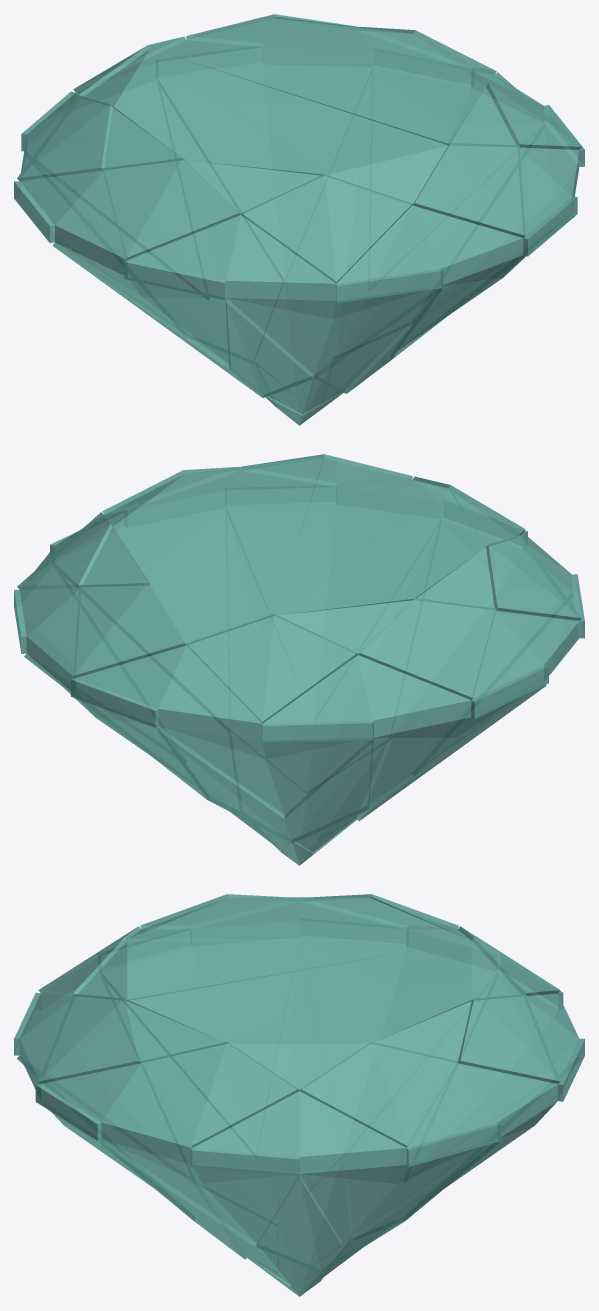
Rendered from anim_daiya.fbx.
The picture shows the model from 3 angles, top to bottom: view 1: azimuth 30°, elevation 25°; view 2: azimuth 150°, elevation 25°; view 3: azimuth 270°, elevation 25°; orthographic projection.
Visible parts, largest first — view 1: pCylinder1; view 2: pCylinder1; view 3: pCylinder1.
Boxes of the visible parts, <box> form: pCylinder1: <box>14,14,584,425</box>; pCylinder1: <box>14,454,584,865</box>; pCylinder1: <box>14,894,584,1296</box>.
Bounding box in the file's own units: 10.25 × 6.52 × 10.25.
